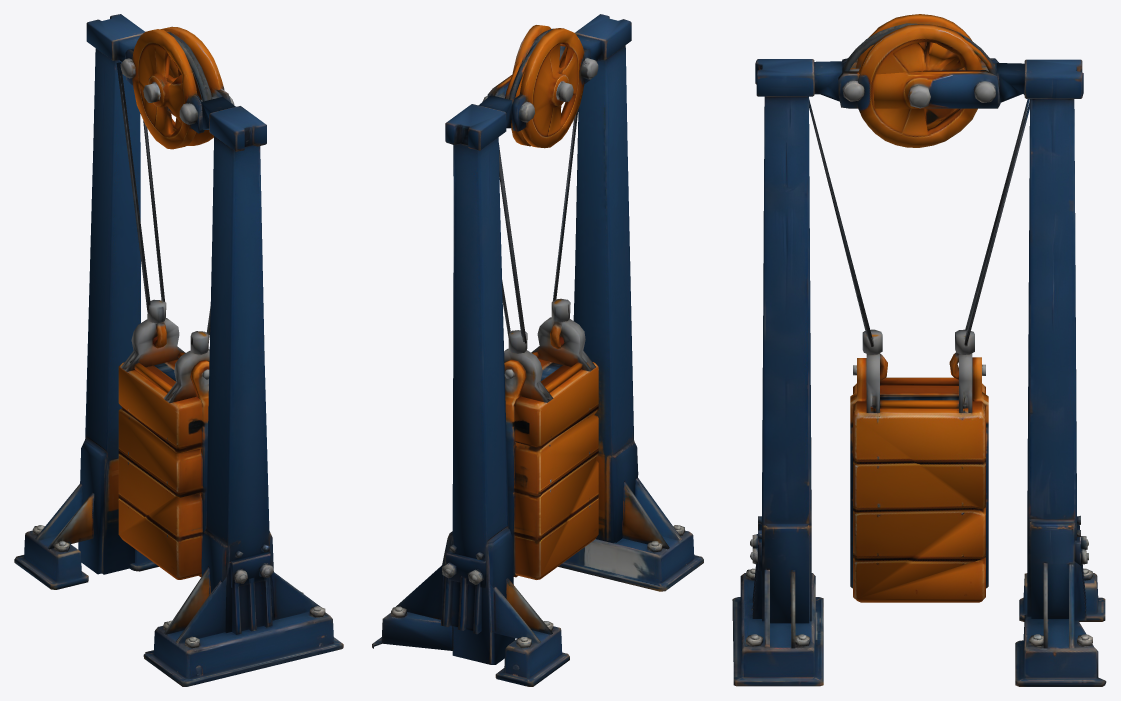
3 views of the same model, side by side, from view 1: azimuth 30°, elevation 25°; view 2: azimuth 150°, elevation 25°; view 3: azimuth 270°, elevation 25° (orthographic). The views are drawn at different scales.
Parts seen in each view (by area): view 1: tripo_node_89f6fabe-b8be-4fa6-b81e-f2f6646be9de; view 2: tripo_node_89f6fabe-b8be-4fa6-b81e-f2f6646be9de; view 3: tripo_node_89f6fabe-b8be-4fa6-b81e-f2f6646be9de.
Part boxes in pixels (box(x1,y1,x2,y2)): tripo_node_89f6fabe-b8be-4fa6-b81e-f2f6646be9de: box(14, 14, 343, 686); tripo_node_89f6fabe-b8be-4fa6-b81e-f2f6646be9de: box(372, 14, 703, 686); tripo_node_89f6fabe-b8be-4fa6-b81e-f2f6646be9de: box(732, 14, 1106, 686).
Size of the model in its own units: 0.5319 by 1.8 by 0.9828.
1 material, 1 textured.
